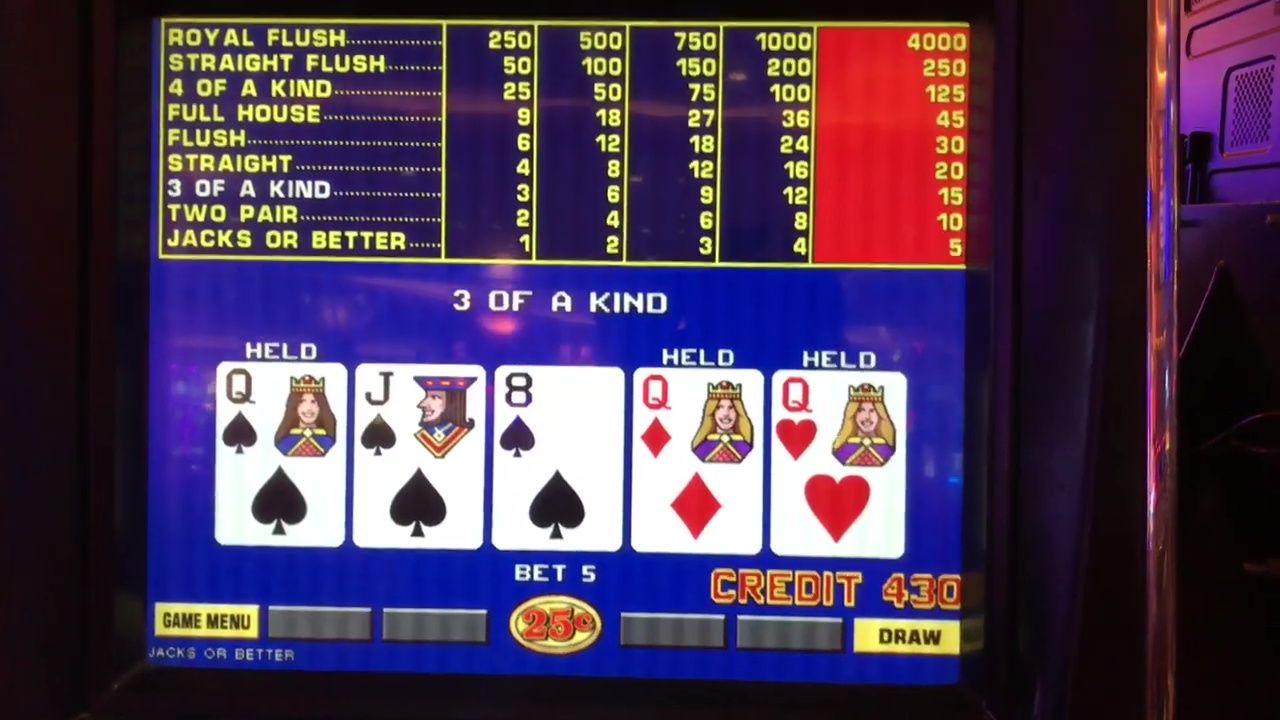DQ: (636, 370, 758, 555)
HQ: (774, 375, 902, 558)
S8: (492, 370, 620, 550)
SJ: (358, 365, 478, 547)
SQ: (213, 364, 344, 544)
